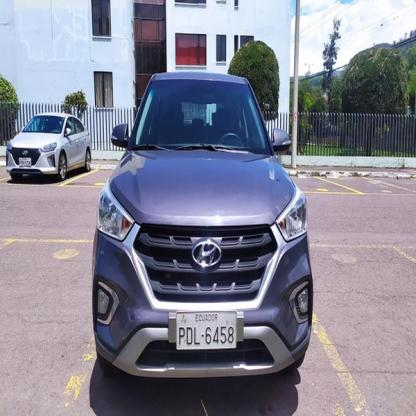Placa: (171, 311, 240, 356)
